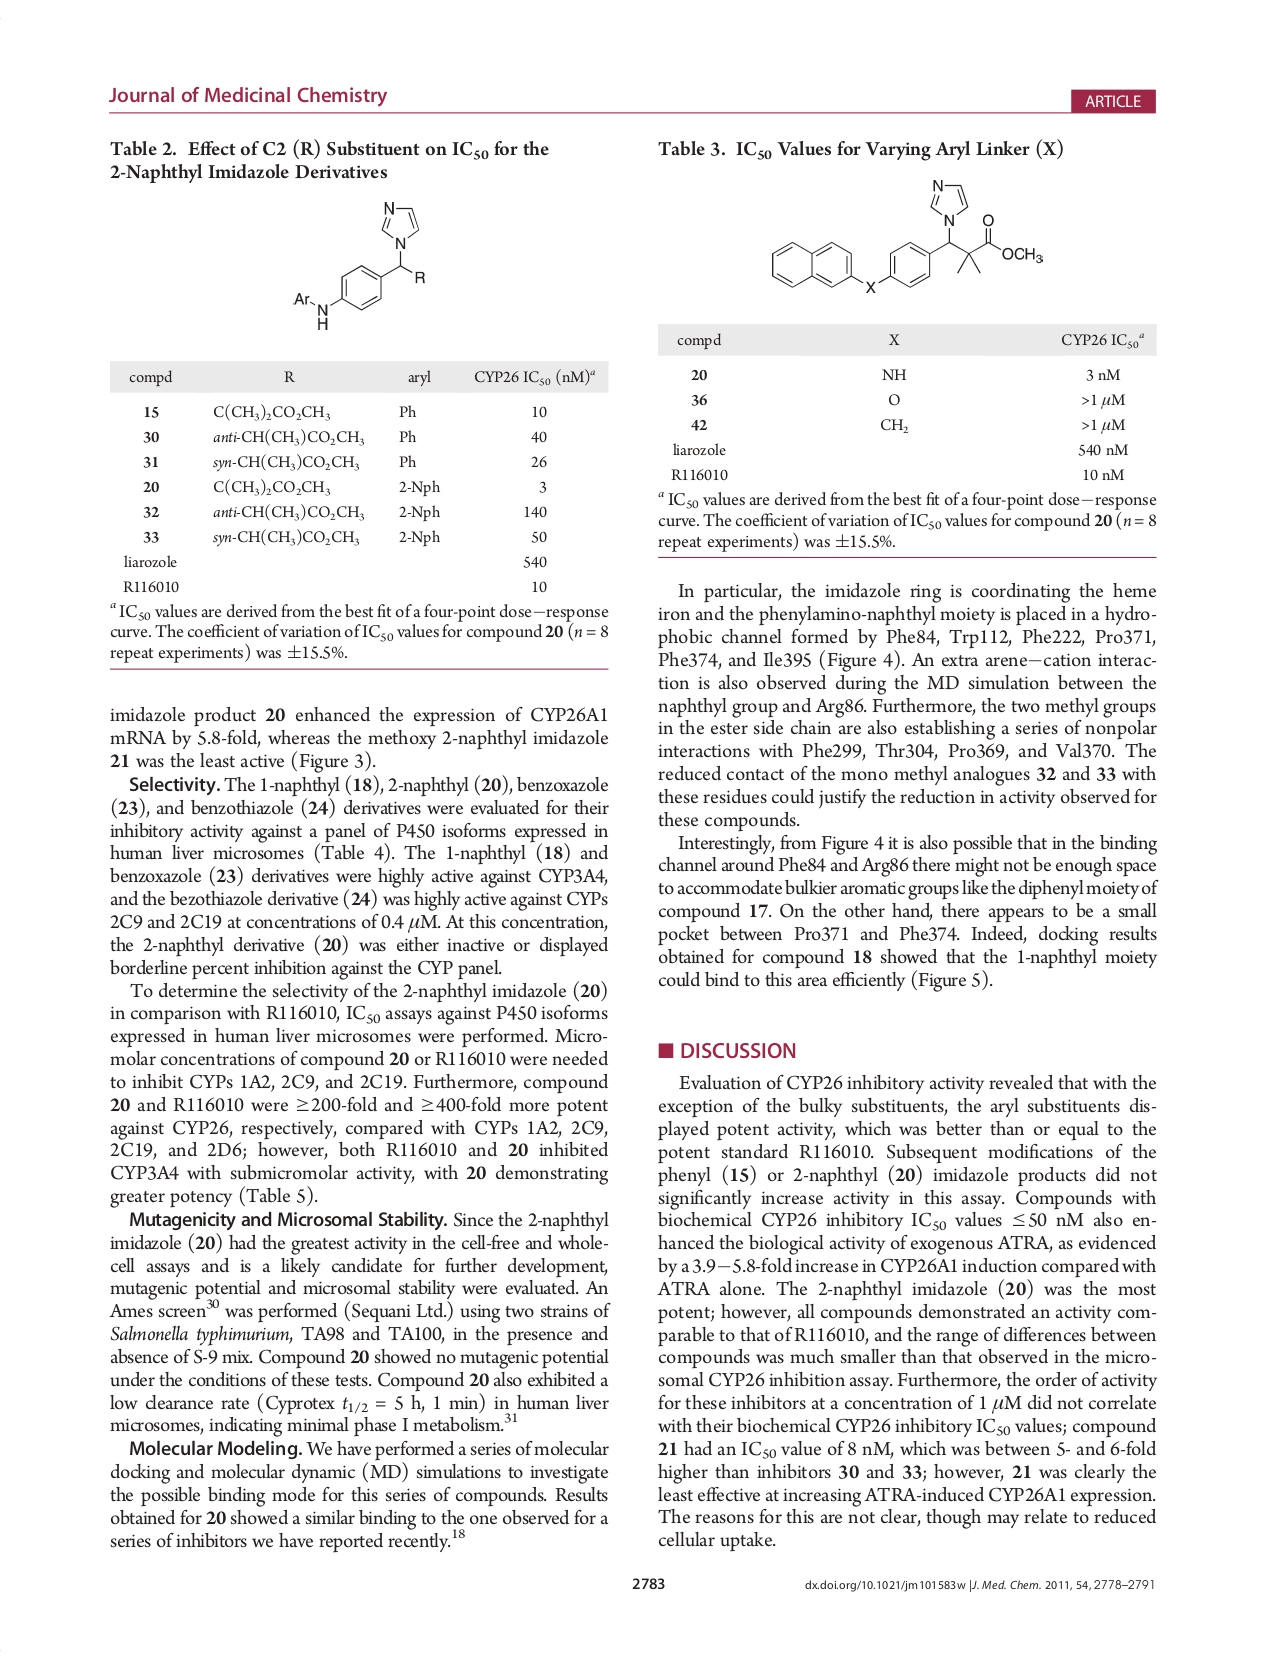exist_molecular: (767, 176, 1048, 299), (286, 199, 430, 331)
